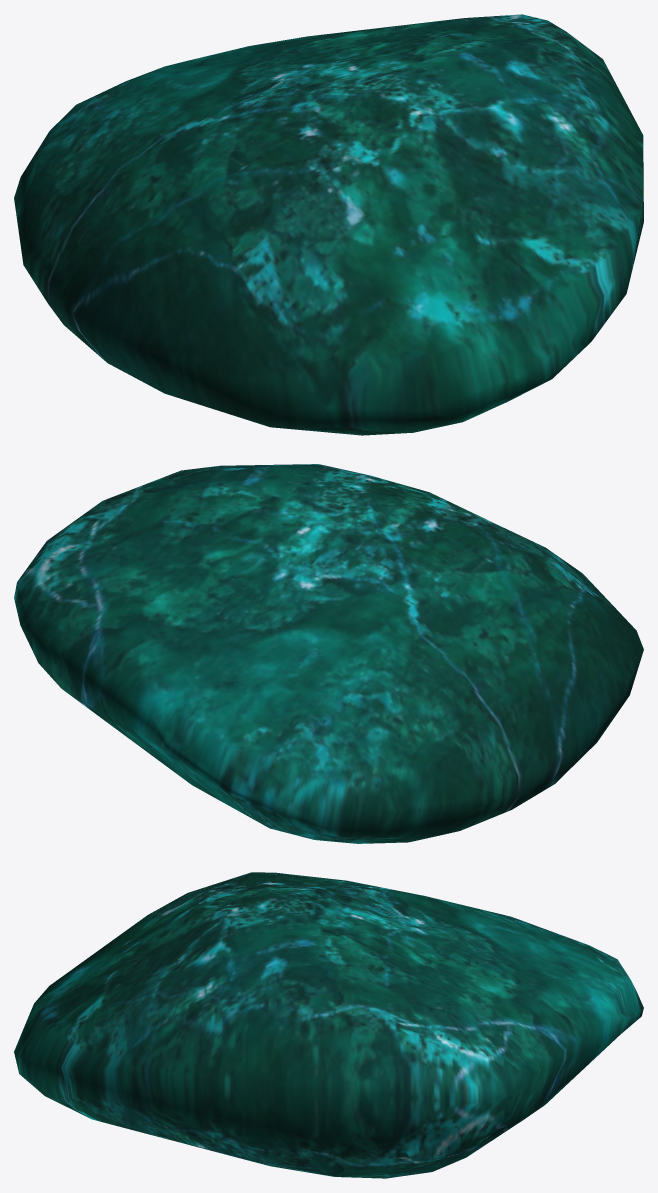
Rendered from malachit.fbx.
3 views of the same model, one above another, from view 1: azimuth 30°, elevation 25°; view 2: azimuth 150°, elevation 25°; view 3: azimuth 270°, elevation 25° (orthographic). The views are drawn at different scales.
Parts seen in each view (by area): view 1: Sphere01; view 2: Sphere01; view 3: Sphere01.
Part boxes in pixels (bbox=[...]): Sphere01: bbox=[14, 14, 643, 435]; Sphere01: bbox=[14, 464, 643, 843]; Sphere01: bbox=[14, 872, 643, 1178].
Size of the model in its own units: 51.35 by 24.29 by 57.87.
1 material, 1 textured.
